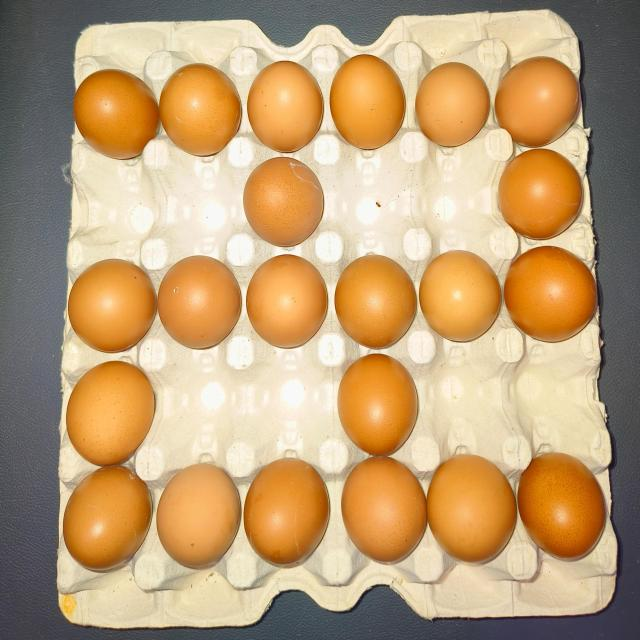Eggs: (427, 456, 518, 566), (68, 359, 158, 466), (339, 350, 426, 459), (66, 464, 149, 572), (522, 450, 608, 554), (343, 460, 428, 564), (162, 61, 242, 168), (244, 462, 328, 562), (505, 248, 596, 339), (246, 254, 329, 352), (156, 468, 239, 562), (68, 266, 154, 355), (70, 68, 152, 157), (498, 51, 580, 138), (425, 248, 500, 343), (161, 254, 240, 344), (336, 258, 416, 346), (248, 57, 322, 150), (501, 151, 581, 237), (334, 54, 405, 150), (246, 160, 325, 245), (417, 61, 485, 146)
